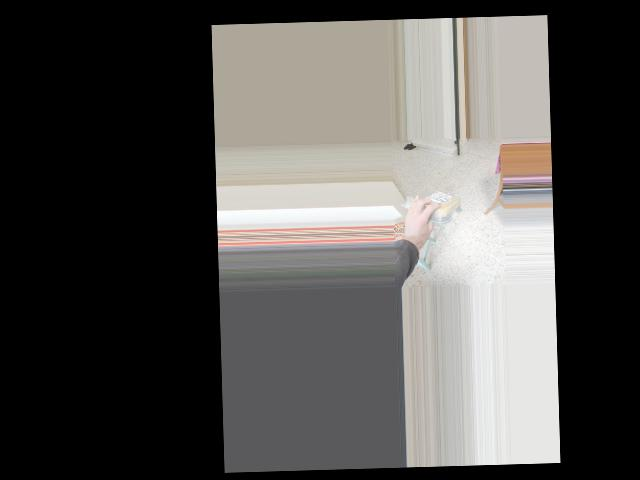cheese: (417, 189, 463, 220)
